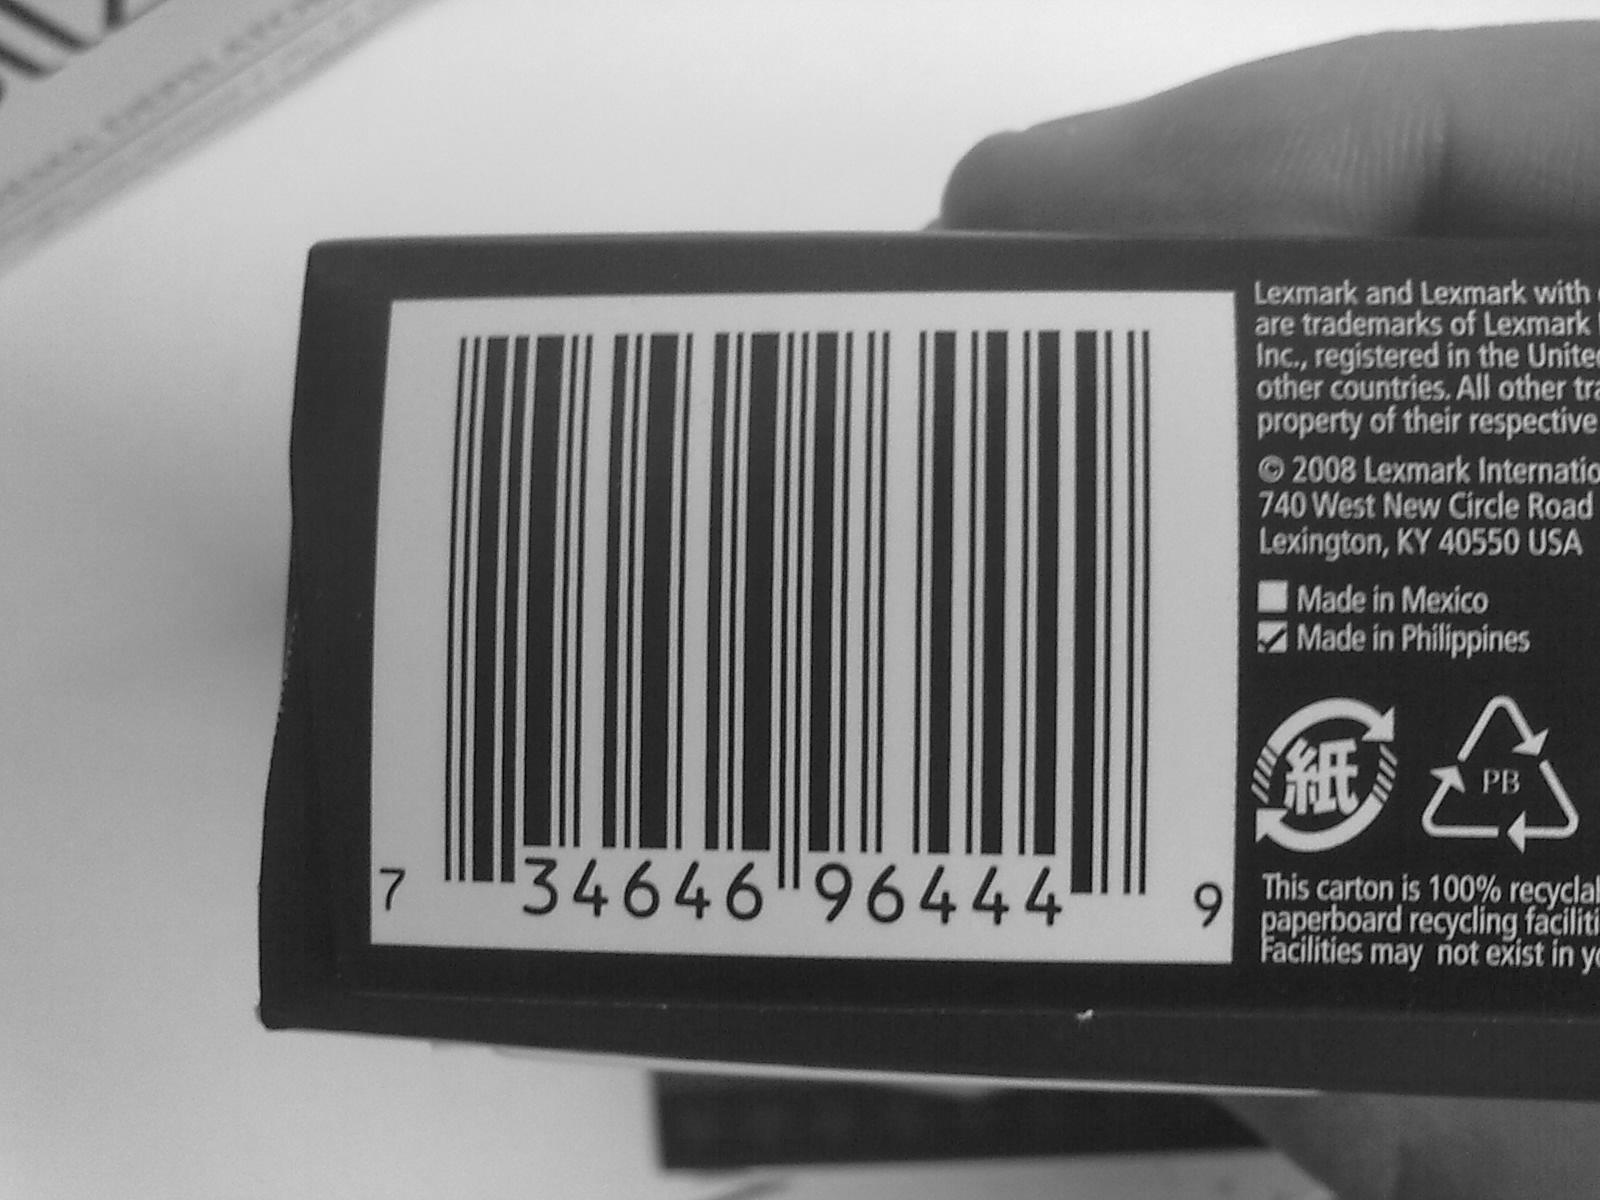Barcode: (420, 310, 1228, 919)
